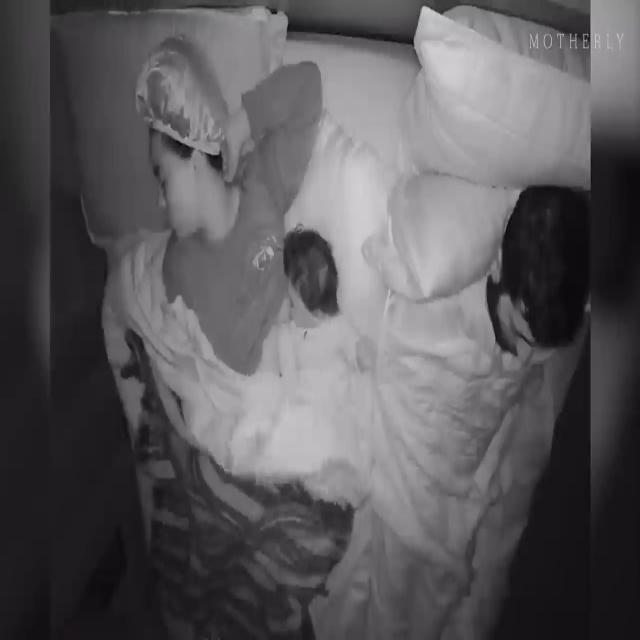baby: (275, 226, 374, 370)
